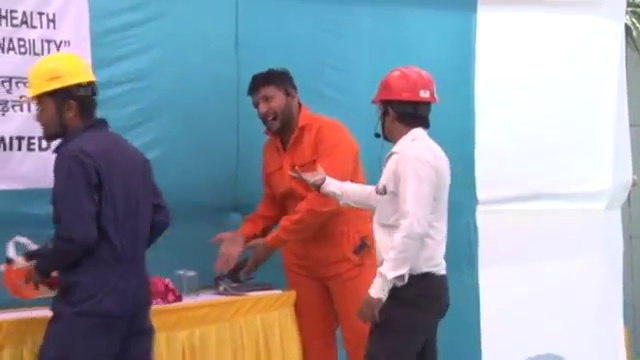helmet: (25, 53, 98, 101), (370, 66, 439, 106)
helmet_off: (246, 66, 306, 136)
helmet_on: (24, 52, 108, 143), (368, 65, 441, 145)
person: (2, 50, 171, 360), (286, 64, 455, 360), (212, 67, 381, 360)
